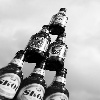beer: (51, 7, 70, 35)
